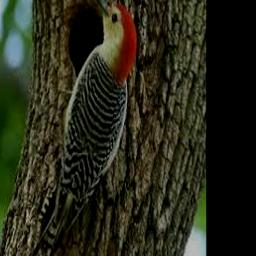Woodpecker: (29, 0, 137, 256)
